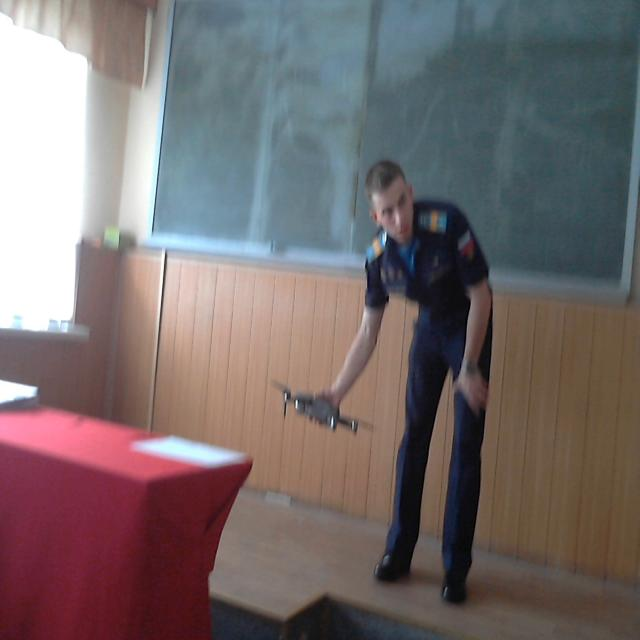drone: (265, 365, 375, 446)
